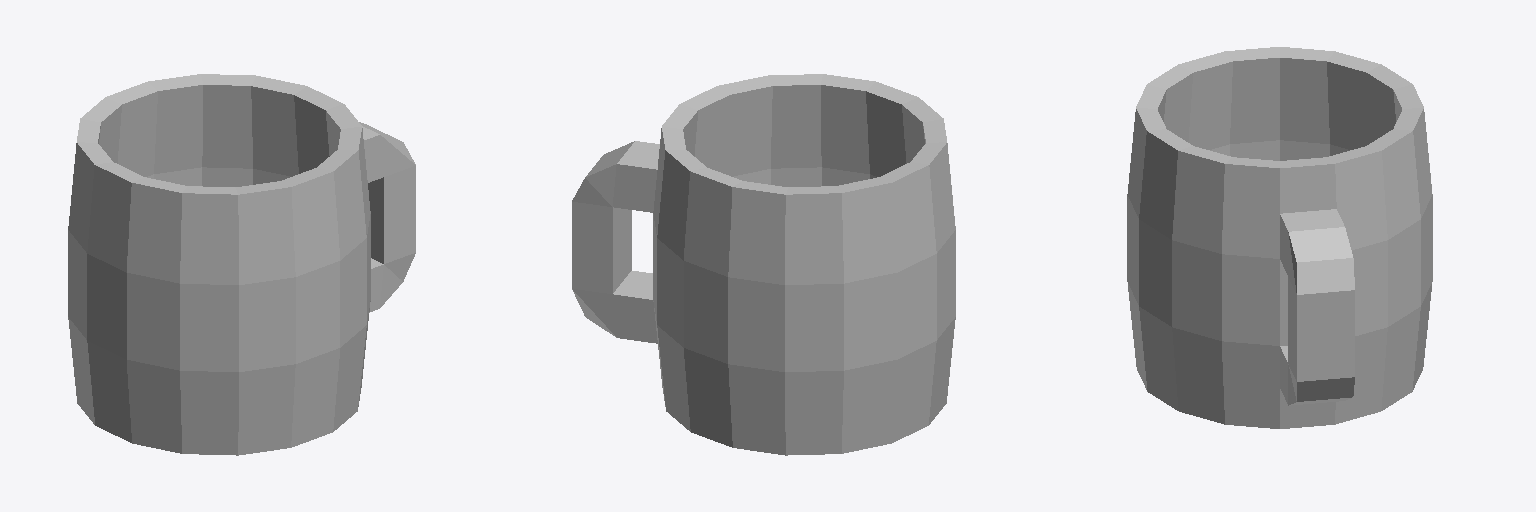
The model's file is D_Mug.obj.
The picture shows the model from 3 angles: view 1: azimuth 30°, elevation 25°; view 2: azimuth 150°, elevation 25°; view 3: azimuth 270°, elevation 25°; orthographic projection.
Parts seen in each view (by area): view 1: Cylinder_Cylinder.001; view 2: Cylinder_Cylinder.001; view 3: Cylinder_Cylinder.001.
Boxes of the visible parts, x1=… form: Cylinder_Cylinder.001: x1=68, y1=74, x2=415, y2=455; Cylinder_Cylinder.001: x1=572, y1=74, x2=955, y2=455; Cylinder_Cylinder.001: x1=1127, y1=47, x2=1432, y2=428.
Bounding box in the file's own units: 2.7 × 2 × 2.12.